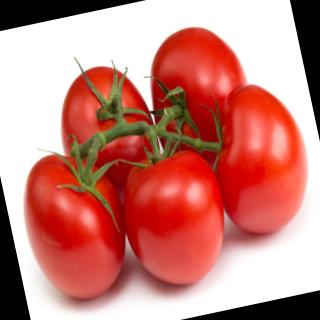Tomat: (104, 104, 240, 296), (9, 126, 142, 310)
